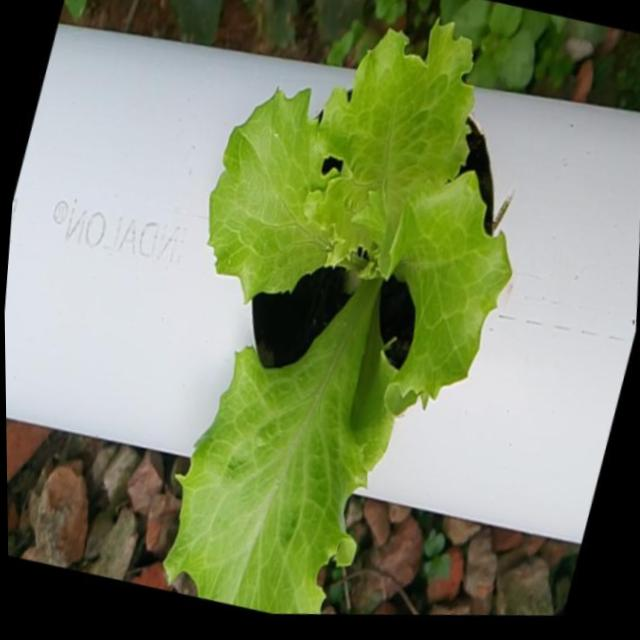Baby: (168, 14, 514, 614)
